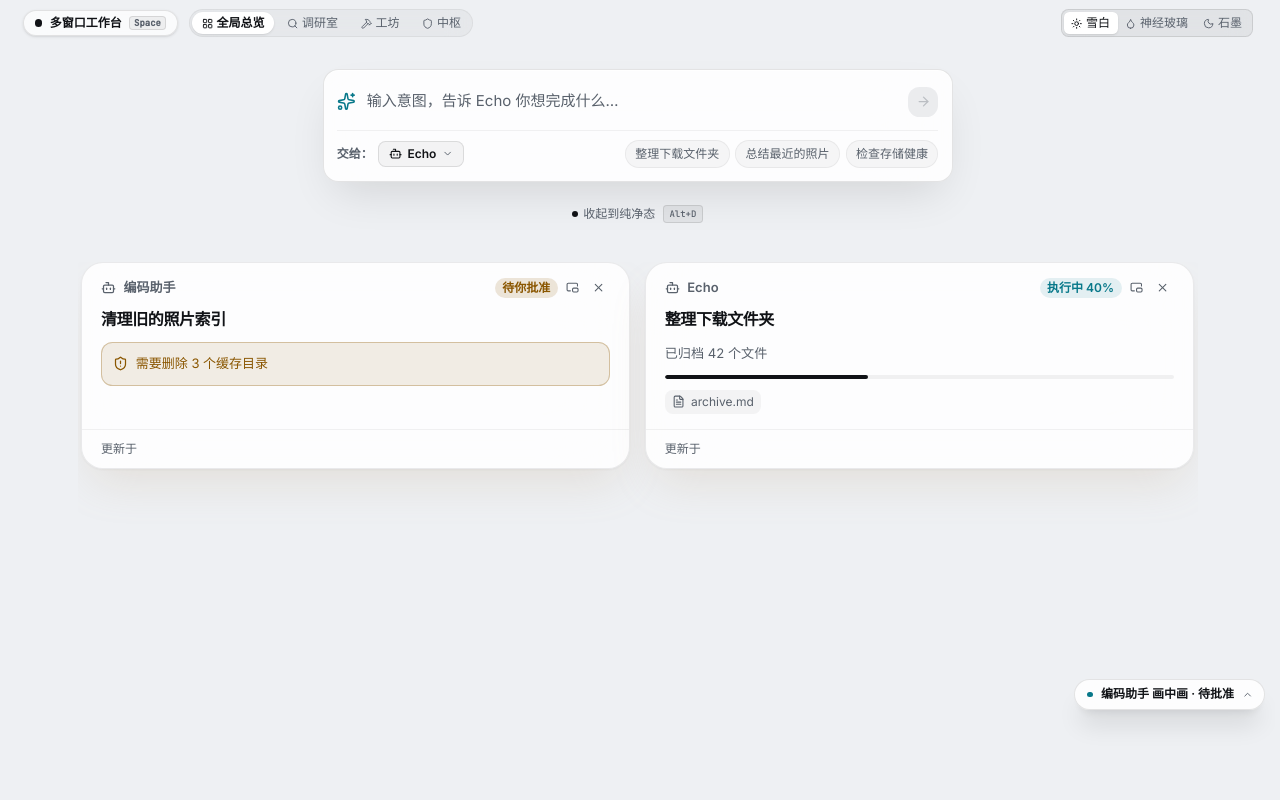
it: IntentDesktopSurface › toggles between workspace and pure mode on mode button click
Click the button "多窗口工作台 Space".
click(100, 23)  # box [22,10,178,36]
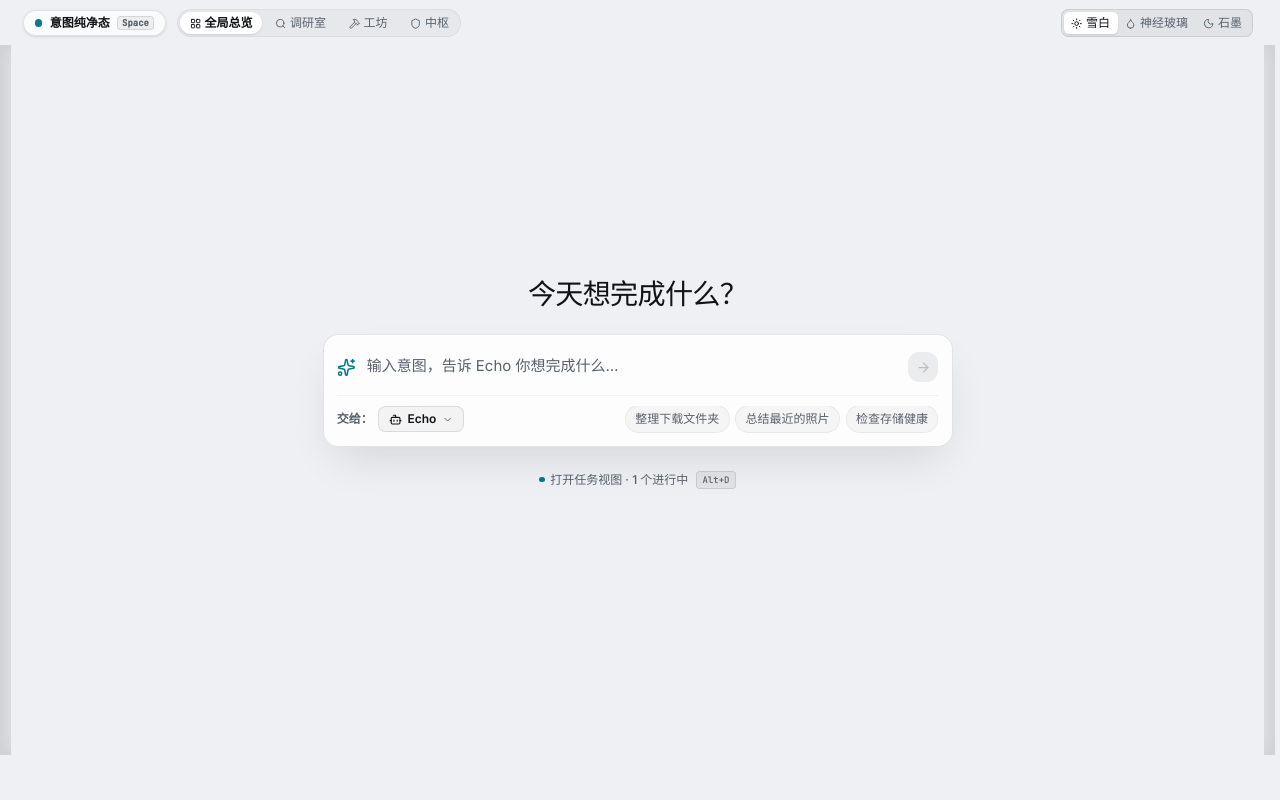
Check: the text "意图纯净态" is shown, box [50,15,110,31]
Click the button "意图纯净态 Space".
click(94, 23)  # box [22,10,166,36]
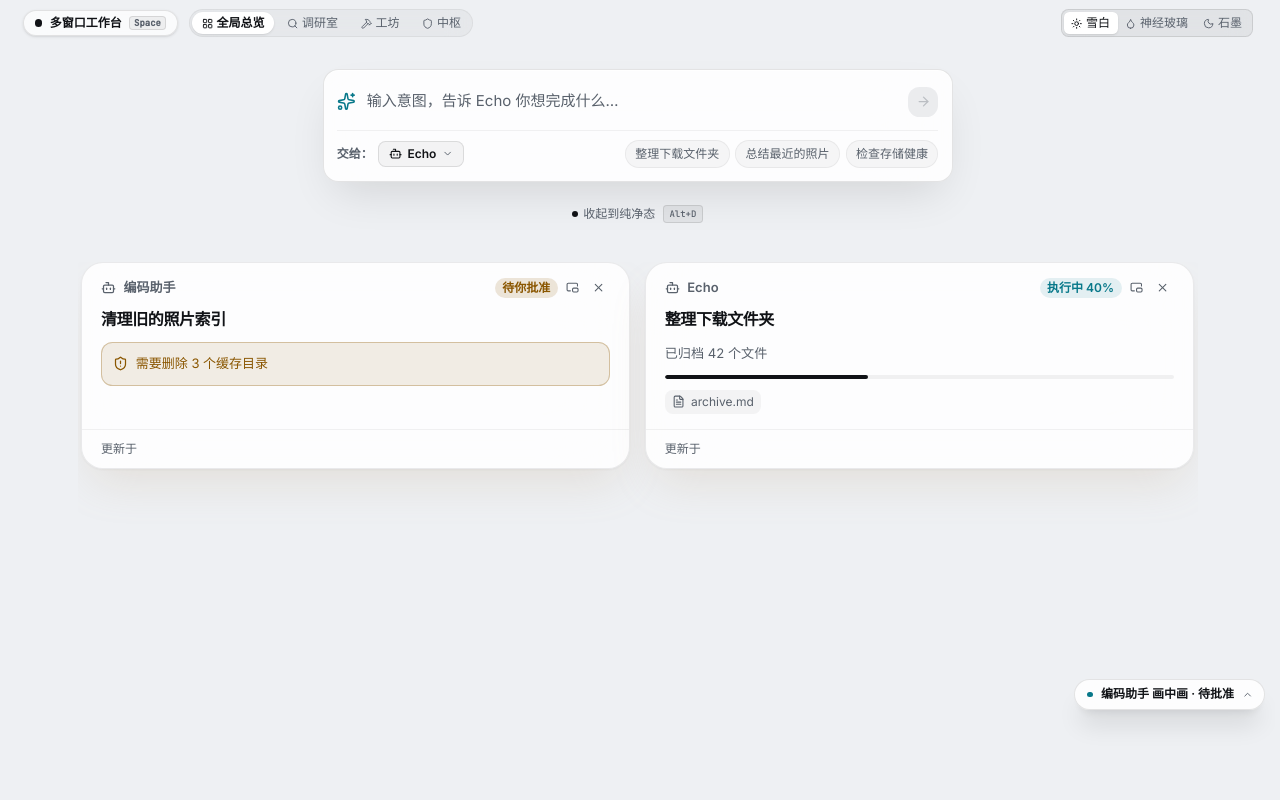
Check: the text "多窗口工作台" is shown, box [50,15,122,31]
